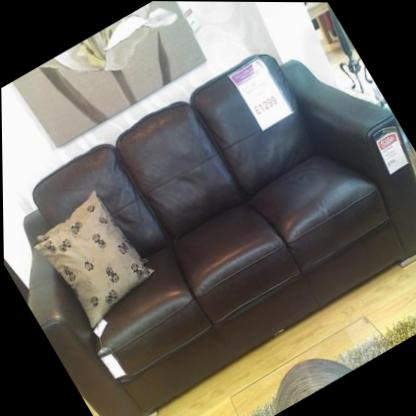Sofa: (0, 3, 416, 416)
